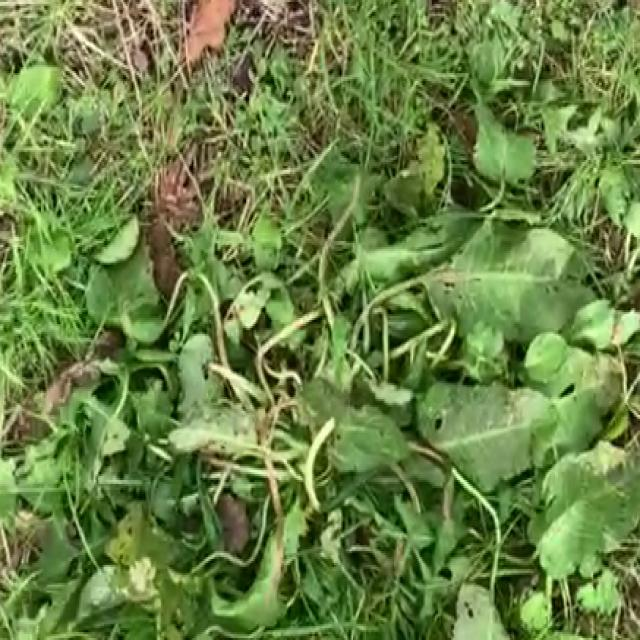organic waste: (86, 112, 639, 640)
